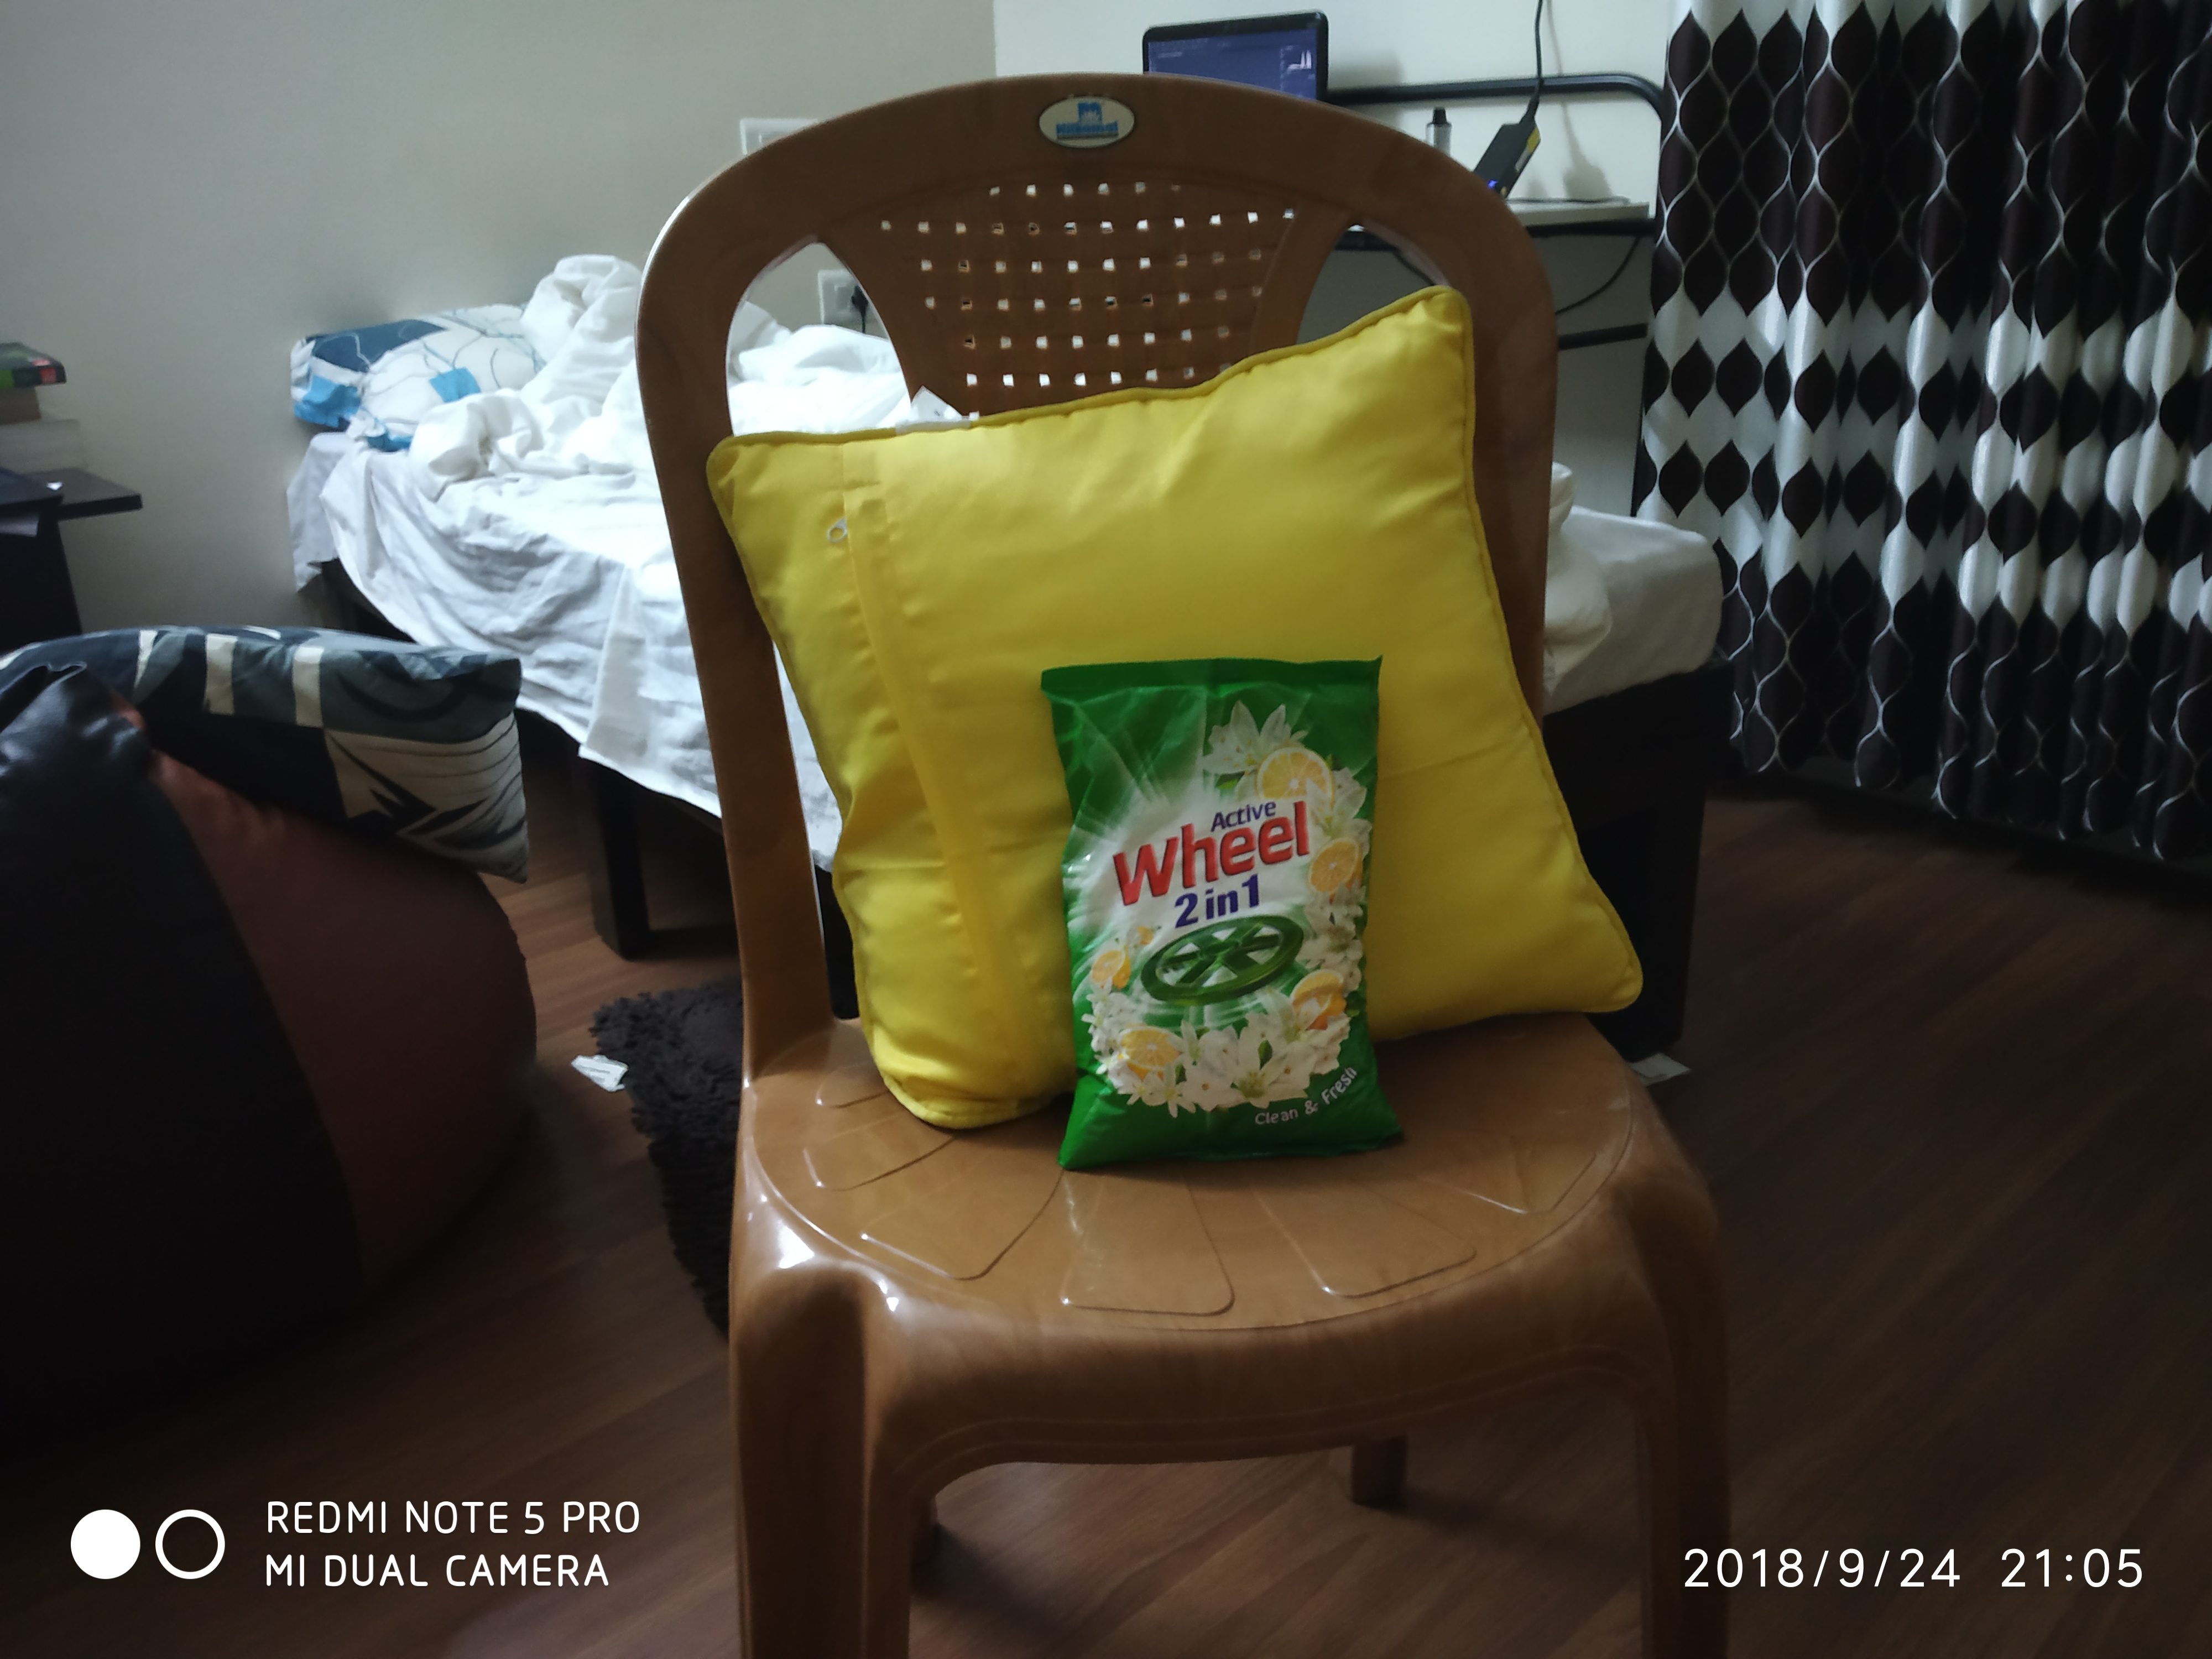detergent: (1047, 643, 1399, 1189)
